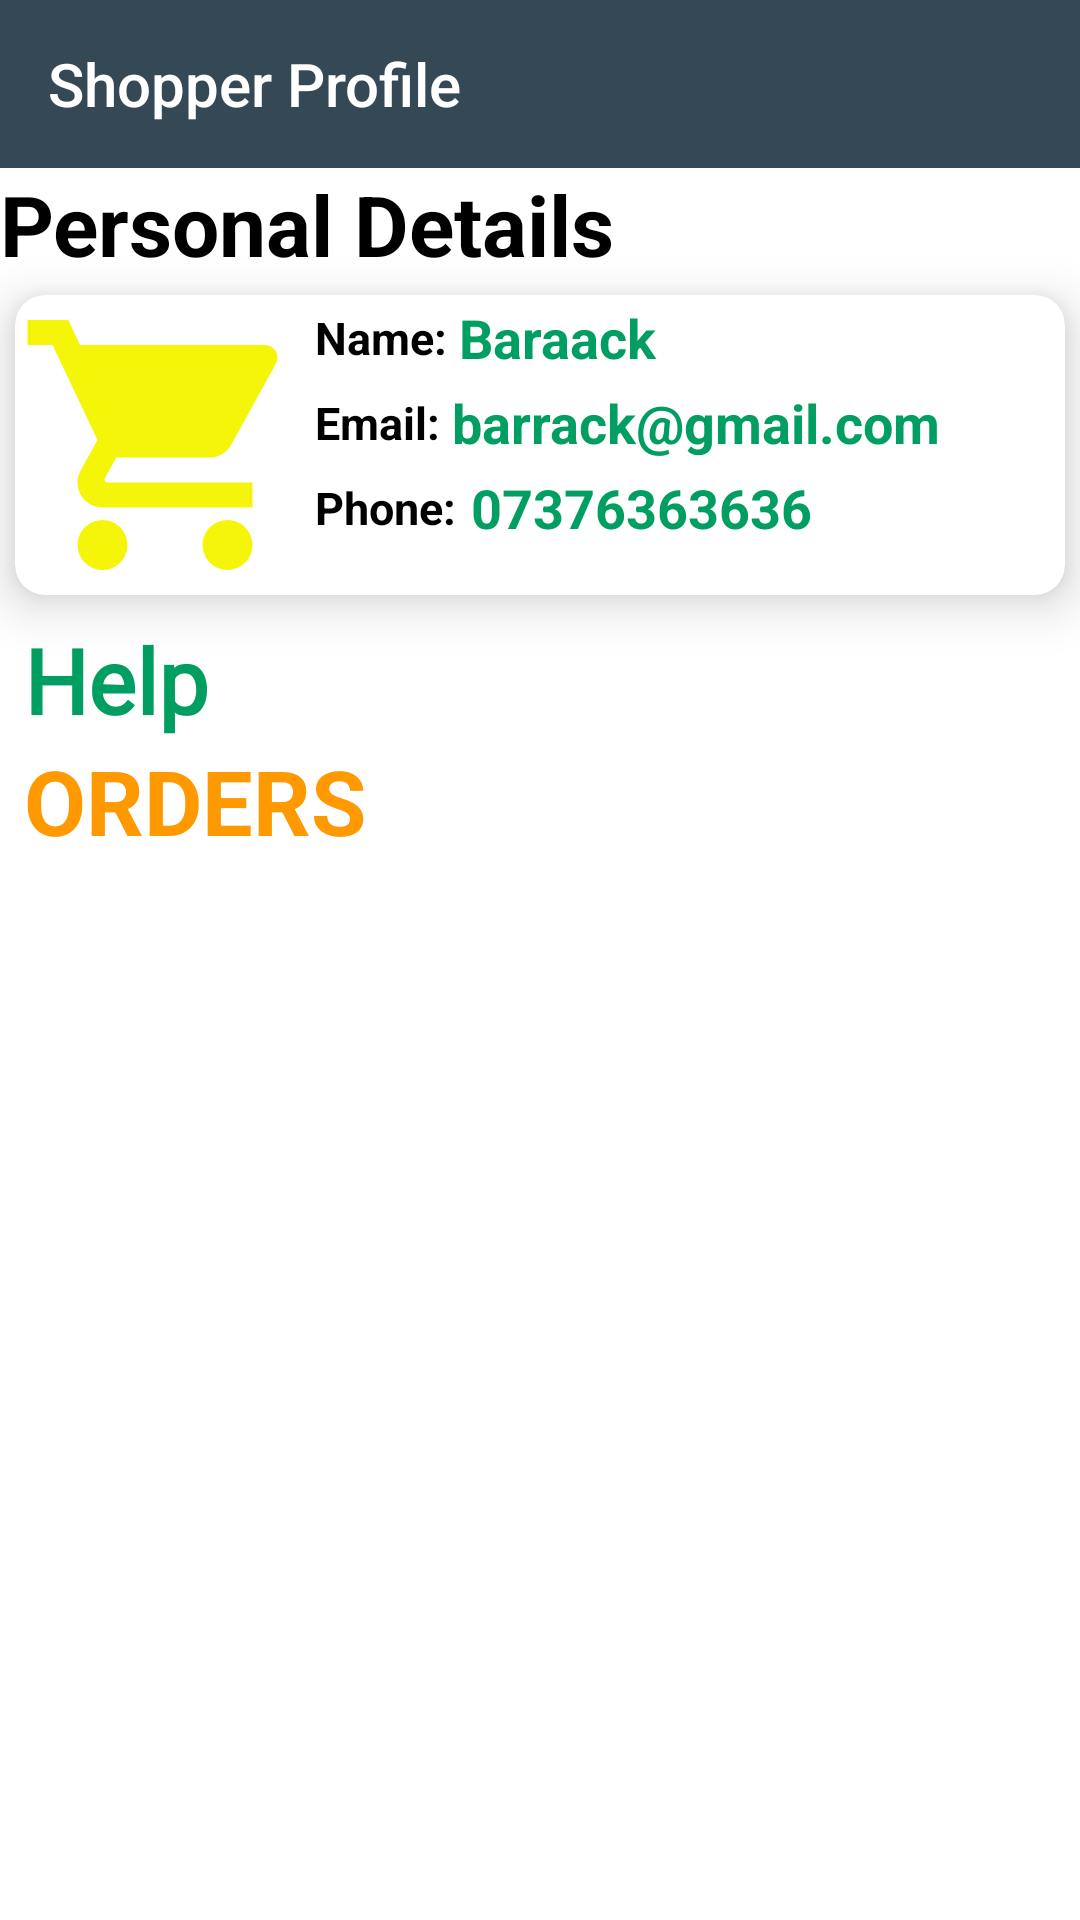

Where to tap for icons on this 1080×1920 app screen, as point (x, y):
shopping cart: point (165, 445)
